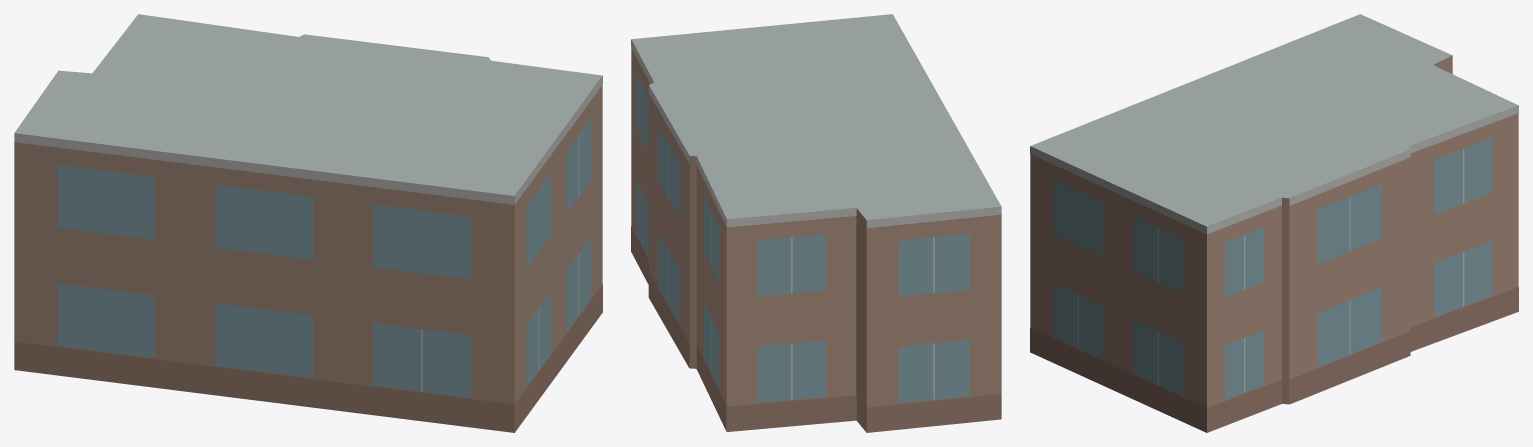
Rendered from survey-upis-32919059.glb.
The picture shows the model from 3 angles, left to right: view 1: azimuth 30°, elevation 25°; view 2: azimuth 150°, elevation 25°; view 3: azimuth 270°, elevation 25°; orthographic projection. The views are drawn at different scales.
Visible parts, largest first — view 1: survey-upis-32919059.tmp; view 2: survey-upis-32919059.tmp; view 3: survey-upis-32919059.tmp.
Boxes of the visible parts, x1=… form: survey-upis-32919059.tmp: x1=14, y1=14, x2=602, y2=432; survey-upis-32919059.tmp: x1=631, y1=14, x2=1001, y2=432; survey-upis-32919059.tmp: x1=1030, y1=14, x2=1518, y2=432.
Bounding box in the file's own units: 14.38 × 6.5 × 13.97.
